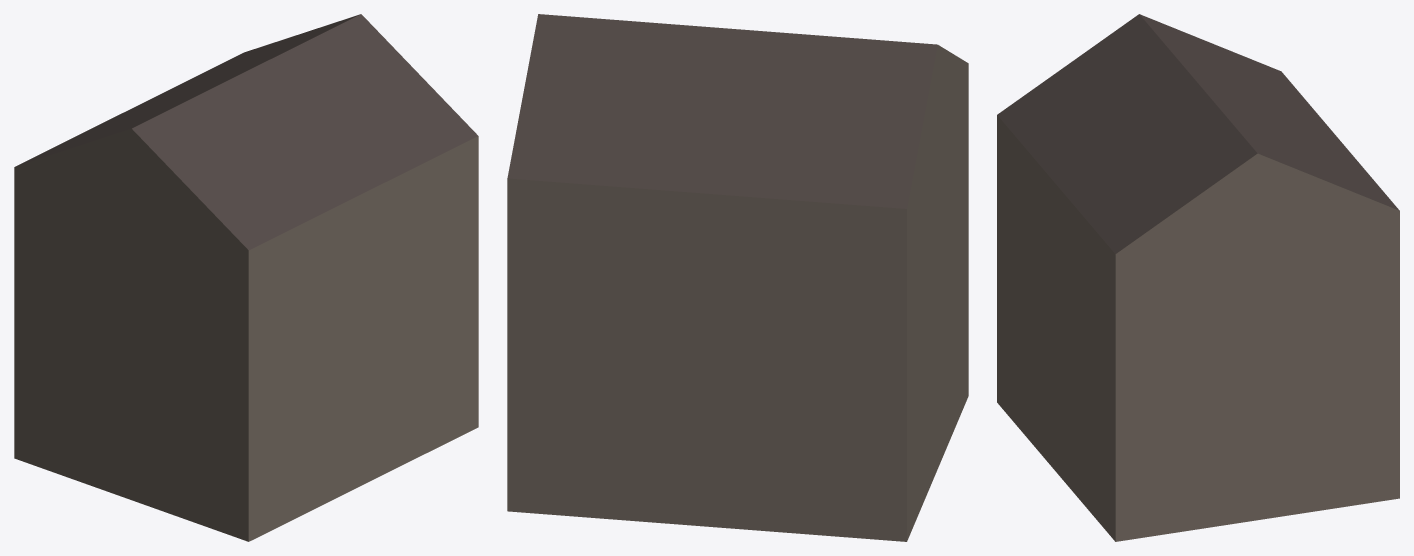
3 renders of one model, left to right at view 1: azimuth 30°, elevation 25°; view 2: azimuth 150°, elevation 25°; view 3: azimuth 270°, elevation 25°, orthographic. The views are drawn at different scales.
Parts seen in each view (by area): view 1: HP-w776801036; view 2: HP-w776801036; view 3: HP-w776801036.
Boxes of the visible parts, x1,y1,x2,y2 form: HP-w776801036: [14, 14, 478, 541]; HP-w776801036: [507, 14, 968, 541]; HP-w776801036: [997, 14, 1399, 541].
Bounding box in the file's own units: 8.18 × 7.65 × 7.62.
